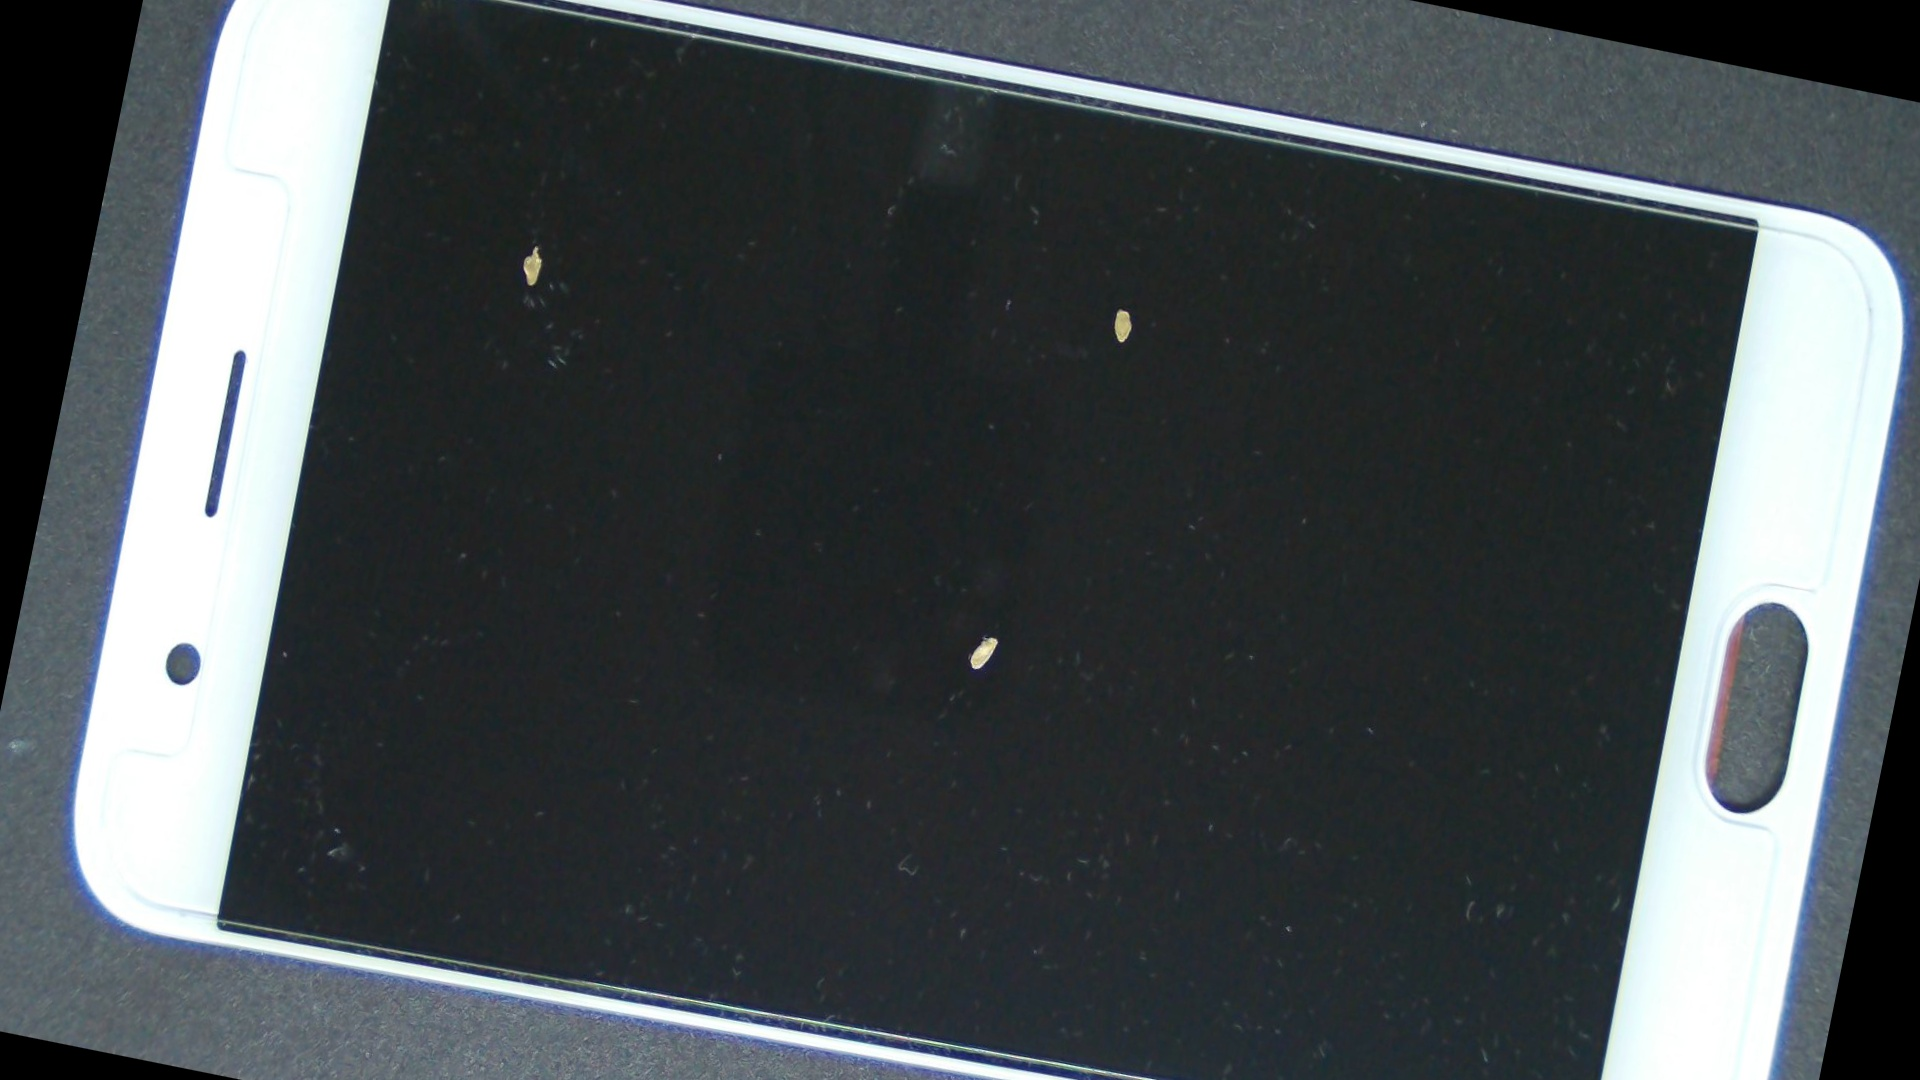oil: (456, 195, 1539, 1076), (587, 30, 1656, 582), (284, 0, 787, 488)
